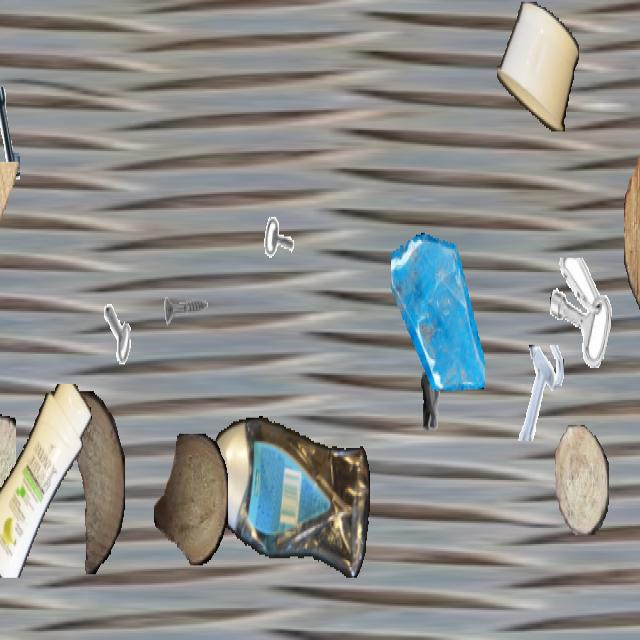glass: (391, 231, 485, 398)
metal: (550, 258, 612, 368), (512, 345, 566, 441), (103, 270, 157, 366), (406, 359, 456, 448), (162, 270, 208, 352), (264, 192, 304, 263), (0, 87, 20, 190)
plastic: (209, 414, 369, 585), (0, 384, 96, 576), (497, 2, 579, 130)
wood: (53, 391, 125, 573), (154, 434, 228, 565), (555, 425, 609, 535), (624, 110, 640, 345), (0, 162, 23, 282), (0, 414, 16, 542)
